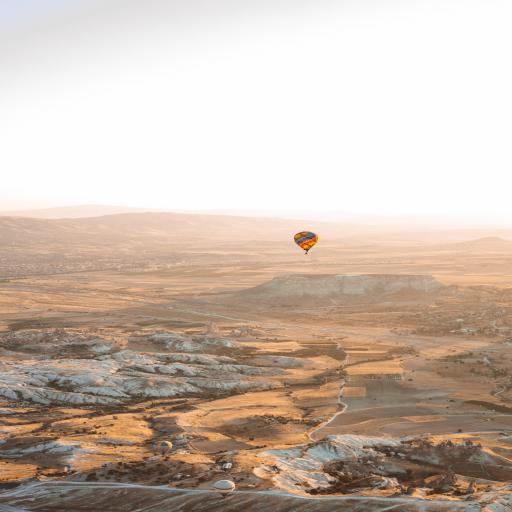hot air ballon: (290, 227, 320, 253)
